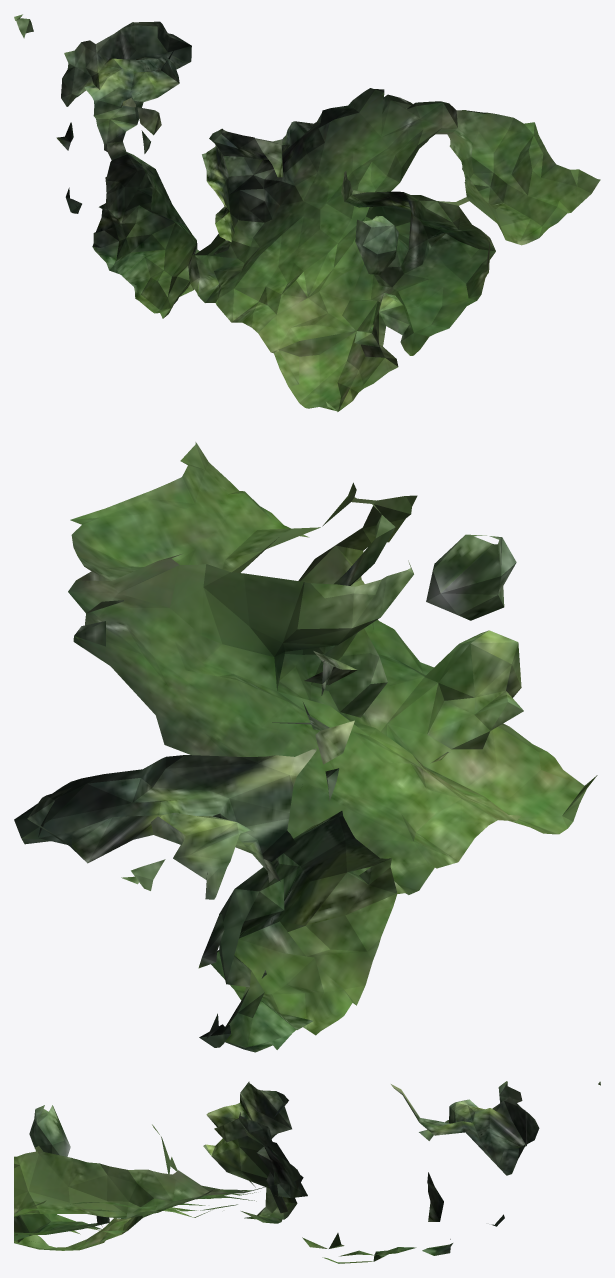
The picture shows the model from 3 angles, top to bottom: view 1: azimuth 30°, elevation 25°; view 2: azimuth 150°, elevation 25°; view 3: azimuth 270°, elevation 25°; orthographic projection. The views are drawn at different scales.
Bounding box in the file's own units: 26.45 × 17.33 × 50.86.
2 materials, 2 textured.
